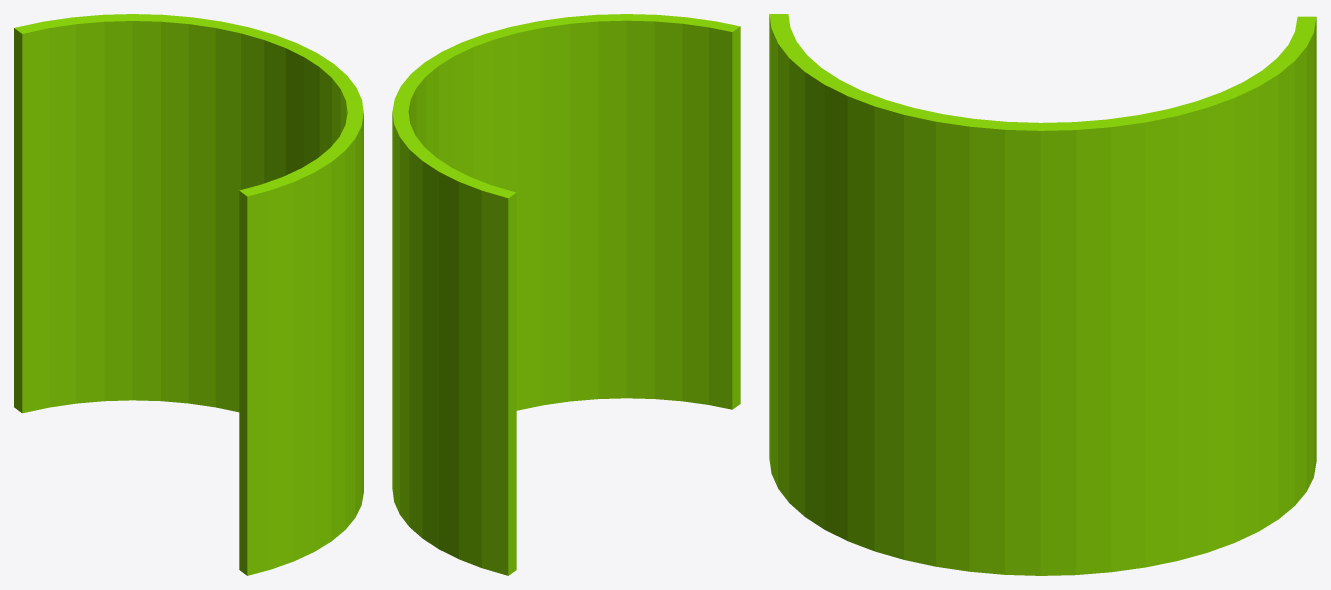
The model's file is Wall_02_Mod2.fbx.
The picture shows the model from 3 angles, left to right: view 1: azimuth 30°, elevation 25°; view 2: azimuth 150°, elevation 25°; view 3: azimuth 270°, elevation 25°; orthographic projection. The views are drawn at different scales.
Visible parts, largest first — view 1: Wall_02_Mod2; view 2: Wall_02_Mod2; view 3: Wall_02_Mod2.
Boxes of the visible parts, x1,y1,x2,y2 form: Wall_02_Mod2: (14,14,363,575); Wall_02_Mod2: (392,14,740,575); Wall_02_Mod2: (769,14,1316,575).
Size of the model in its own units: 319 by 576 by 638.
